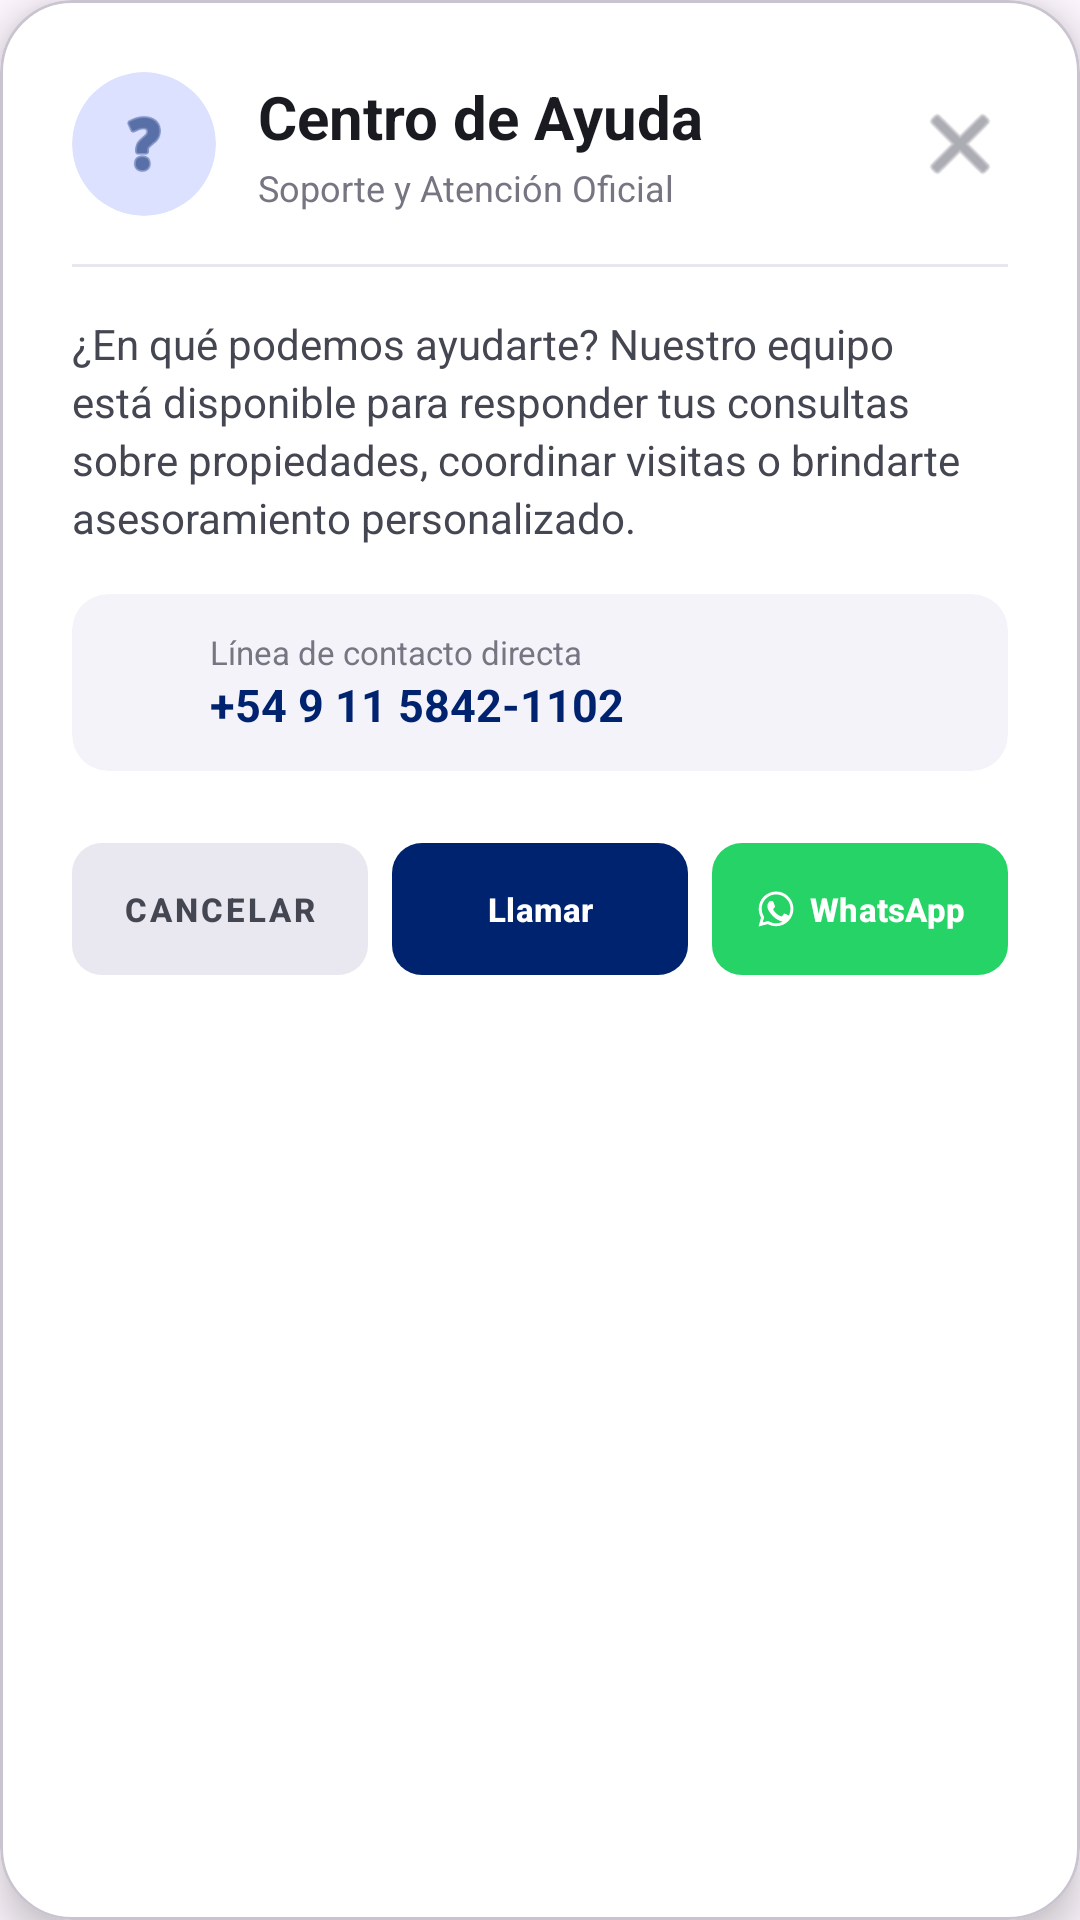

Named icons in this screenshot (1080*1920) and their bounding boxes, BBox(x1, y1, x2, y2):
Cerrar: BBox(930, 114, 990, 174)
help: BBox(127, 116, 161, 172)
